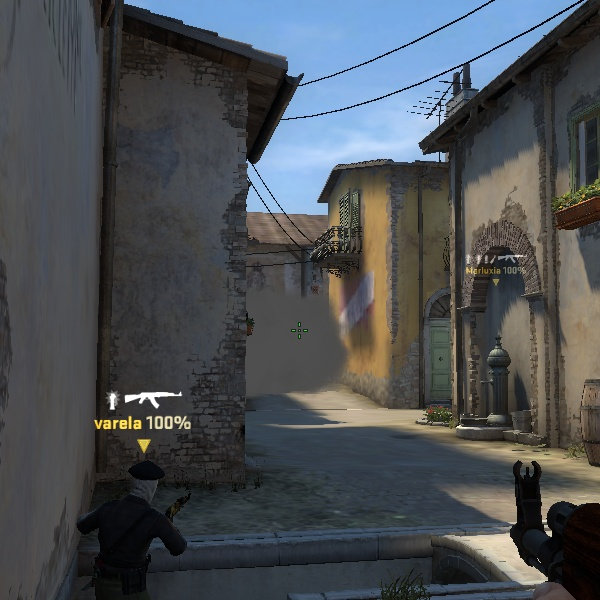ct_head: (120, 453, 173, 498)
